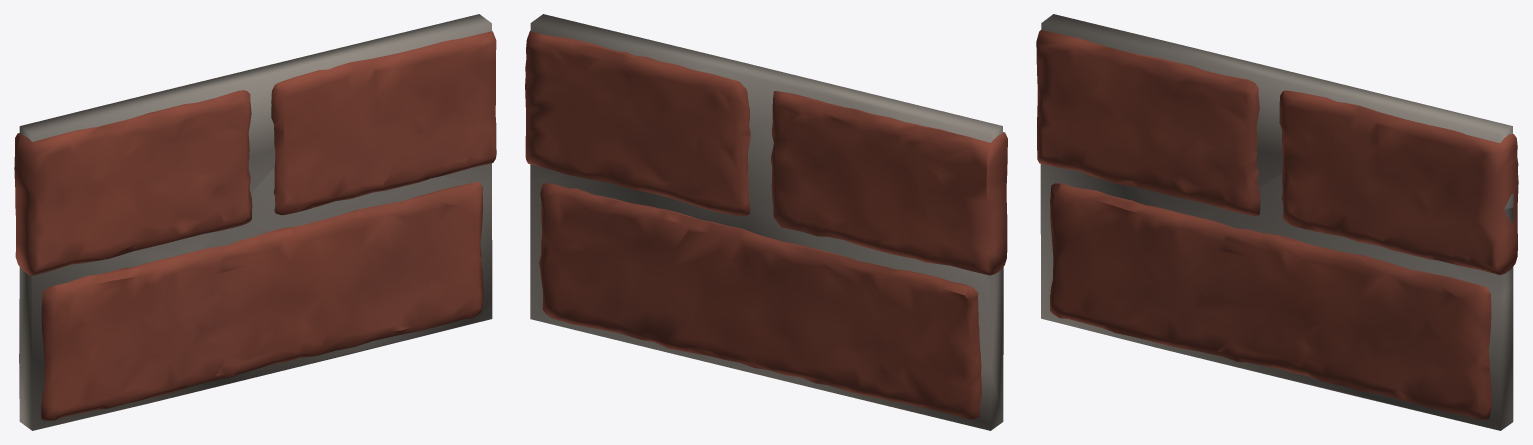
Rendered from ember_brick_wall_lod1.glb.
The picture shows the model from 3 angles, left to right: view 1: azimuth 30°, elevation 25°; view 2: azimuth 150°, elevation 25°; view 3: azimuth 330°, elevation 25°; orthographic projection.
Visible parts, largest first — view 1: ember_brick_wall.001; view 2: ember_brick_wall.001; view 3: ember_brick_wall.001.
Part boxes in pixels (<box>): ember_brick_wall.001: <box>14,14,496,430</box>; ember_brick_wall.001: <box>525,14,1007,430</box>; ember_brick_wall.001: <box>1036,14,1518,430</box>.
Size of the model in its own units: 65.01 by 39.98 by 5.66.
